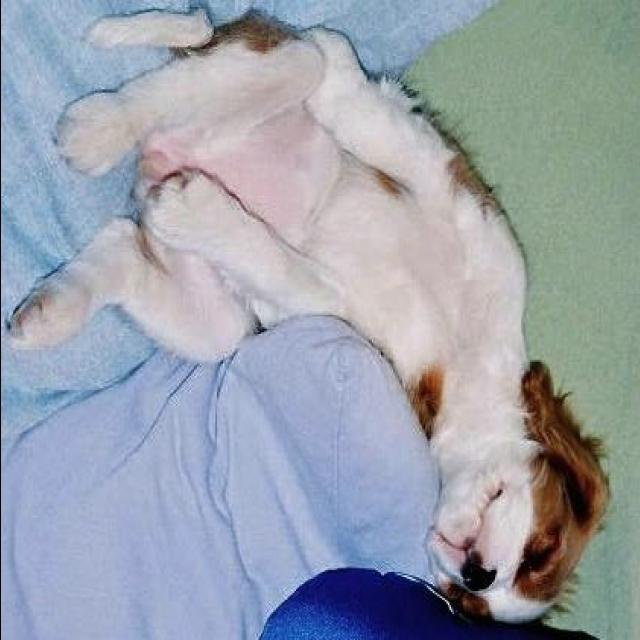blenheim_spaniel: (3, 6, 613, 630)
